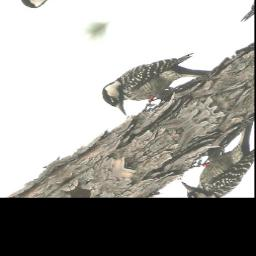Woodpecker: (97, 35, 214, 130)
